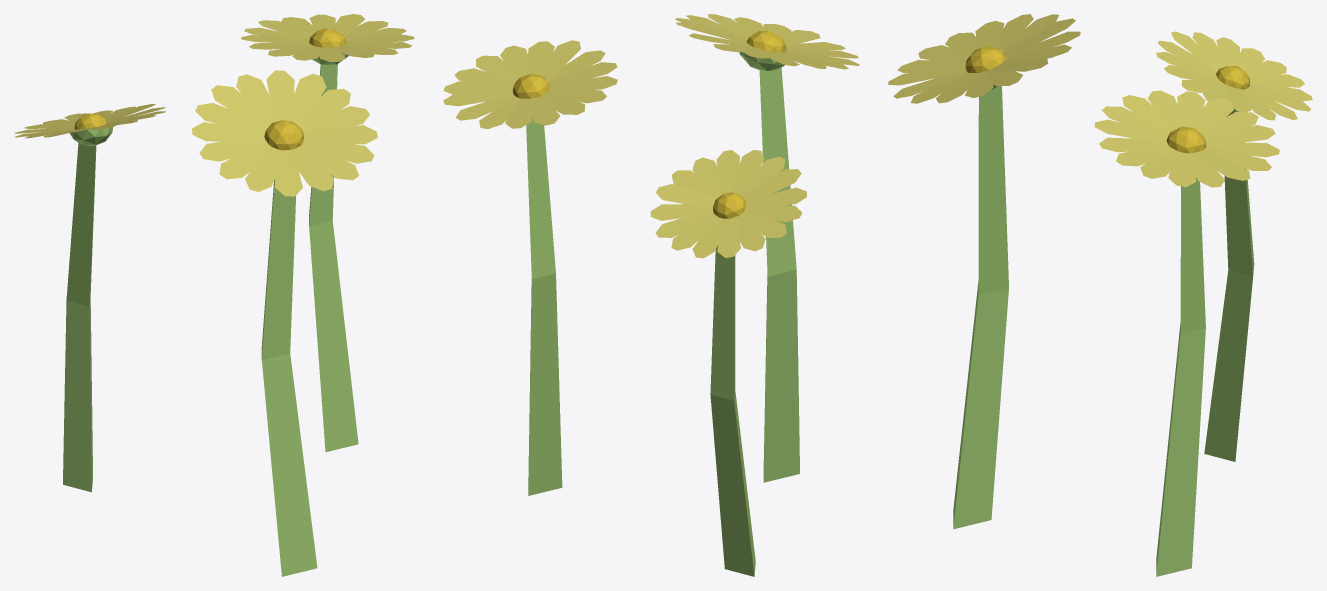
Rendered from flower02.fbx.
The picture shows the model from 3 angles, left to right: view 1: azimuth 30°, elevation 25°; view 2: azimuth 150°, elevation 25°; view 3: azimuth 270°, elevation 25°; orthographic projection. The views are drawn at different scales.
Visible parts, largest first — view 1: Flower02; view 2: Flower02; view 3: Flower02.
Part boxes in pixels (left/top/right/bottom): Flower02: left=14, top=14, right=414, bottom=576; Flower02: left=443, top=14, right=859, bottom=576; Flower02: left=888, top=14, right=1312, bottom=576.
Size of the model in its own units: 15.76 by 19.11 by 15.05.
